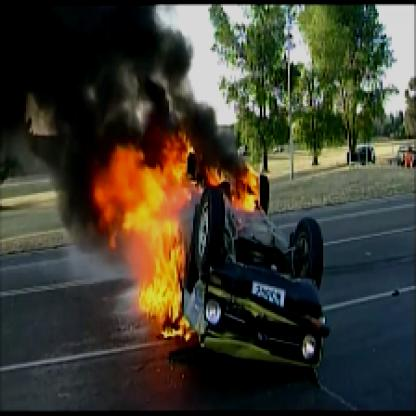Fire: (86, 93, 258, 343)
